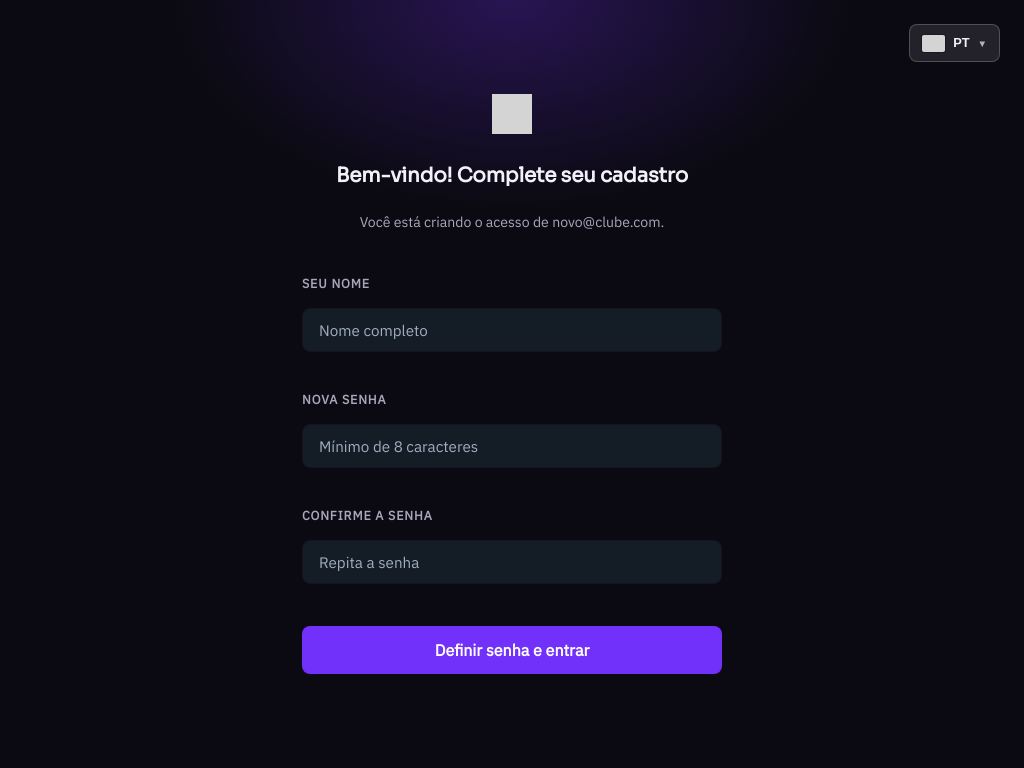
Test: validação da senha › confirmação diferente é recusada
Type "Ana" into the field labelled "Seu nome".
click(512, 330); type("Ana")  # box 302,308 -> 722,352
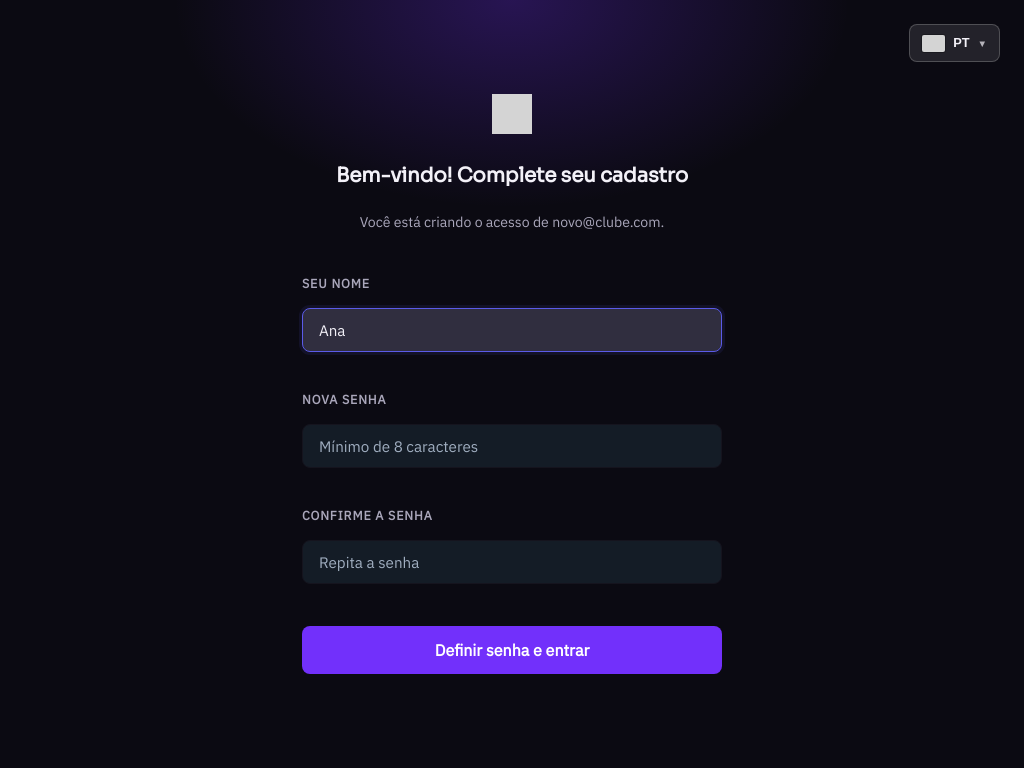
Type "senhaforte1" into the password field labelled "Nova senha".
click(512, 446); type("senhaforte1")  # box 302,424 -> 722,468
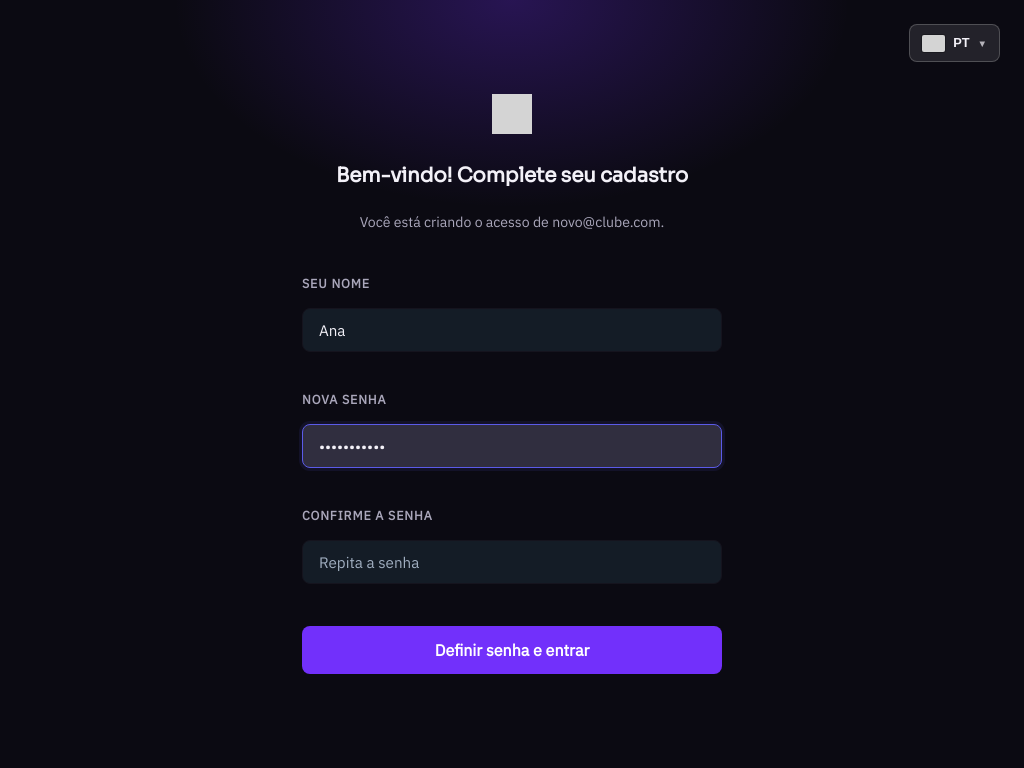
Type "outracoisa1" into the password field labelled "Confirme a senha".
click(512, 562); type("outracoisa1")  # box 302,540 -> 722,584
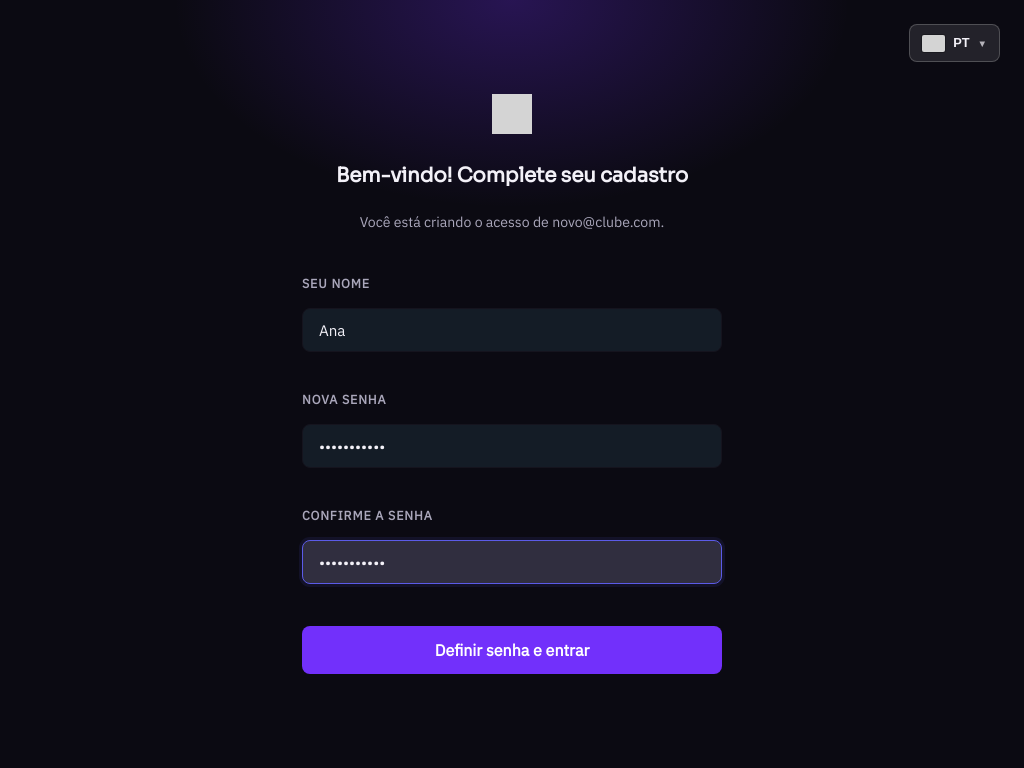
Click the submit button.
click(512, 650)  # box 302,626 -> 722,674
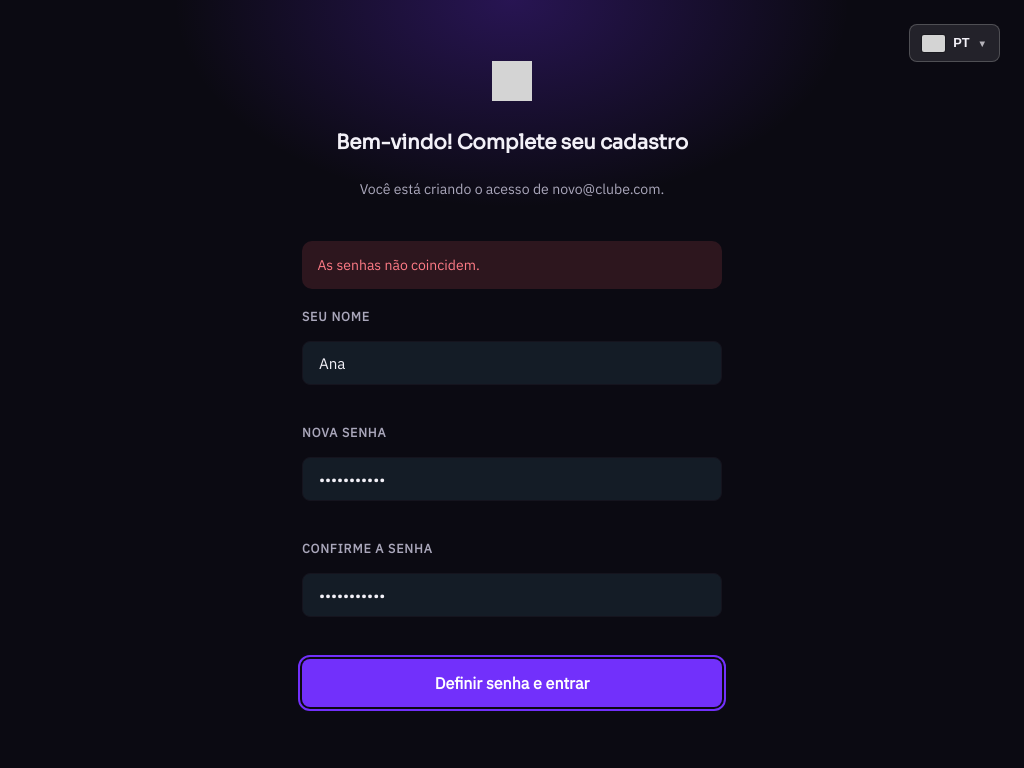
Expected: the text "As senhas não coincidem." is shown, 302,241 -> 722,289
